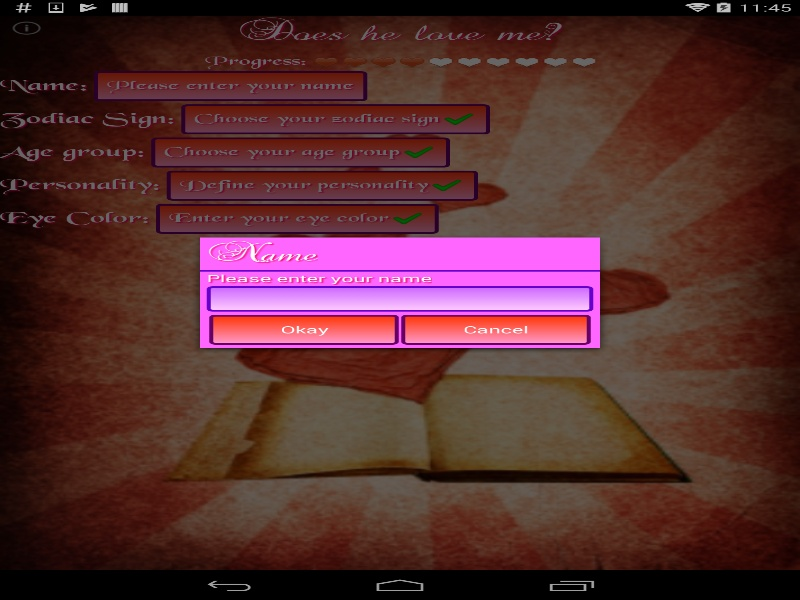Button: (209, 314, 398, 344), (401, 314, 590, 344)
Input: (206, 286, 593, 311)
